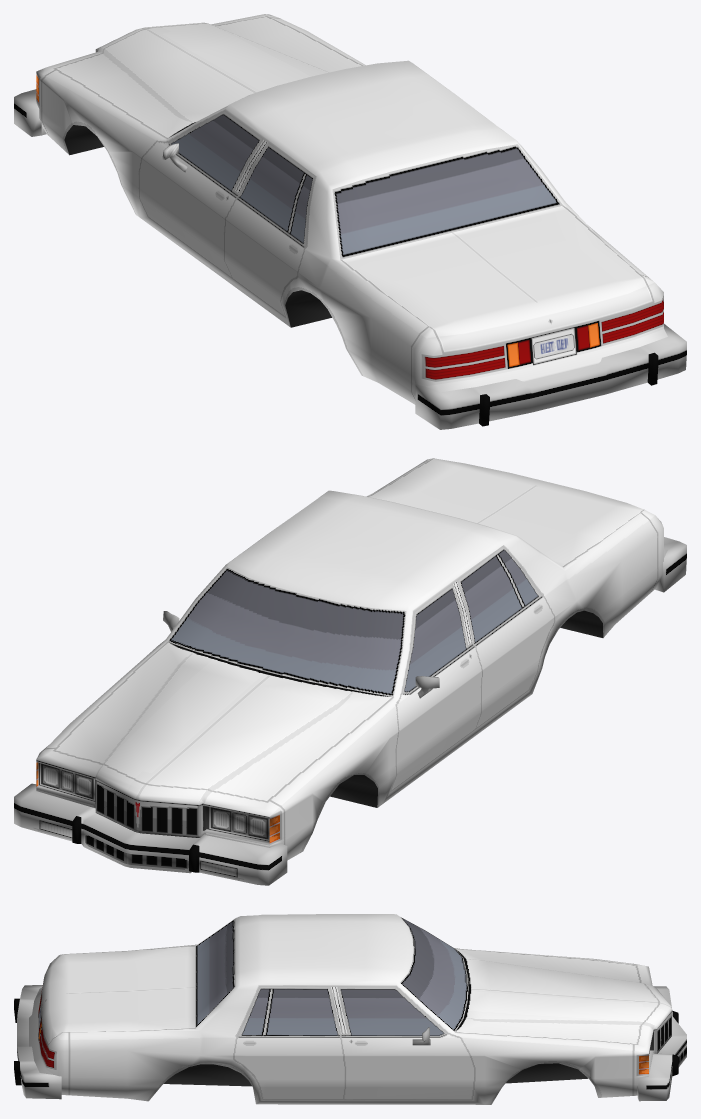
File: 81Catalina.fbx
3 renders of one model, top to bottom at view 1: azimuth 30°, elevation 25°; view 2: azimuth 150°, elevation 25°; view 3: azimuth 270°, elevation 25°, orthographic. The views are drawn at different scales.
Visible parts, largest first — view 1: 81catalina; view 2: 81catalina; view 3: 81catalina.
Boxes of the visible parts, x1,y1,x2,y2 form: 81catalina: [14, 14, 686, 429]; 81catalina: [14, 458, 686, 885]; 81catalina: [14, 914, 686, 1104].
Size of the model in its own units: 2.12 by 1.12 by 5.89.
